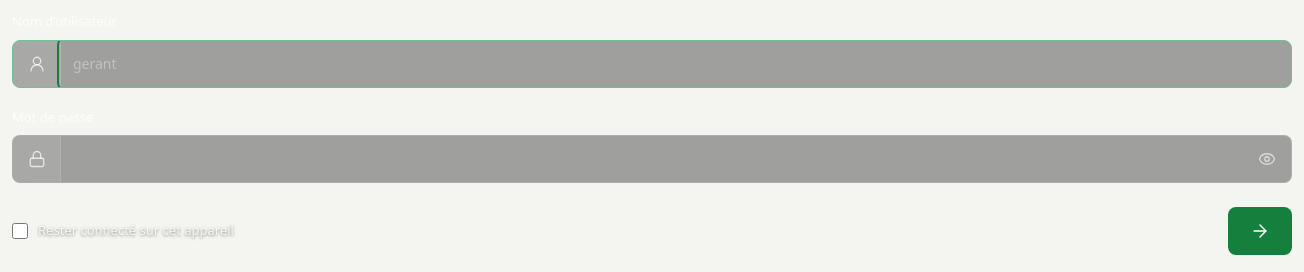
affichage du mot de passe › révèle puis remasque le mot de passe
In the password field labelled "Mot de passe": x=652, y=159 left=61, top=136, right=1243, bottom=182, type "gerant123"
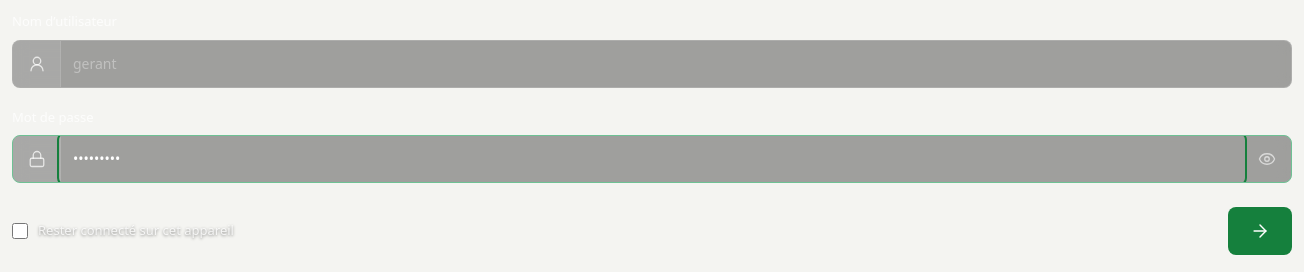
Click the button named "afficher le mot de passe": x=1267, y=159 left=1243, top=136, right=1291, bottom=182
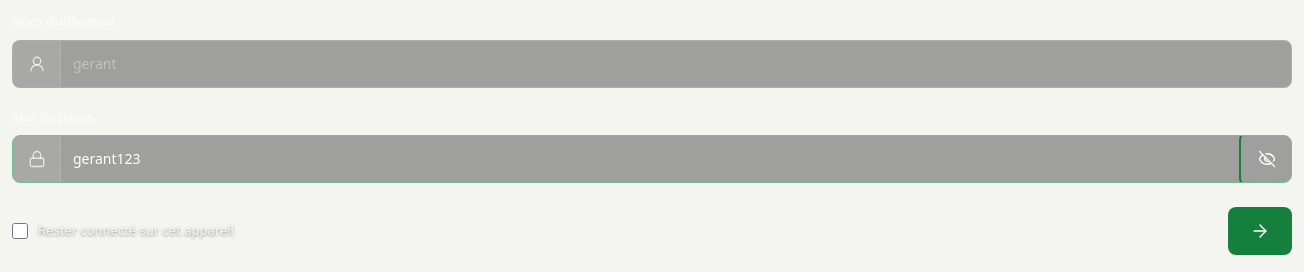
Result: the field labelled "Mot de passe" shows its text at left=61, top=136, right=1243, bottom=182
Click the button named "masquer le mot de passe": x=1267, y=159 left=1243, top=136, right=1291, bottom=182
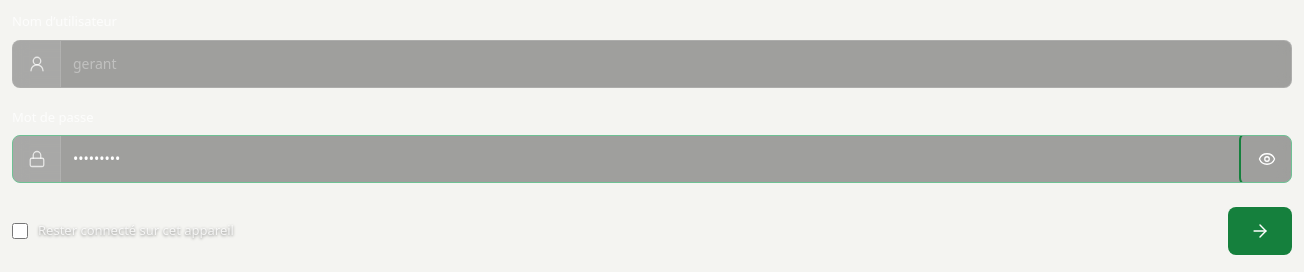
Result: the password field labelled "Mot de passe" hides its text at left=61, top=136, right=1243, bottom=182
